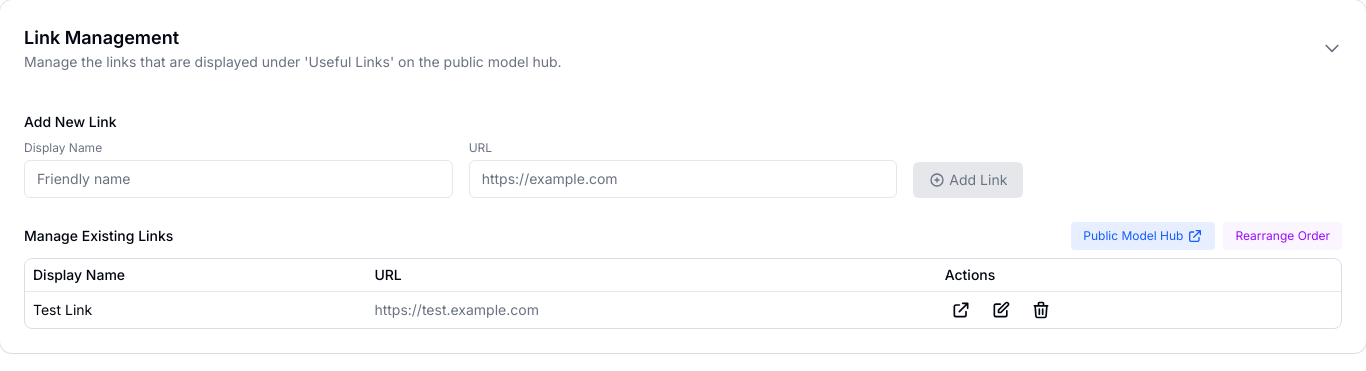
Test: UsefulLinksManagement › should edit a link when edit button is clicked
The width and height of the screenshot is (1366, 371).
Expected: the text "Test Link" is shown, top-left (25, 291), bottom-right (366, 328)
Click edit button
Click the element with test id "edit-link-0-Test Link". click: coordinates (1001, 310)
box: top-left (991, 300), bottom-right (1011, 320)
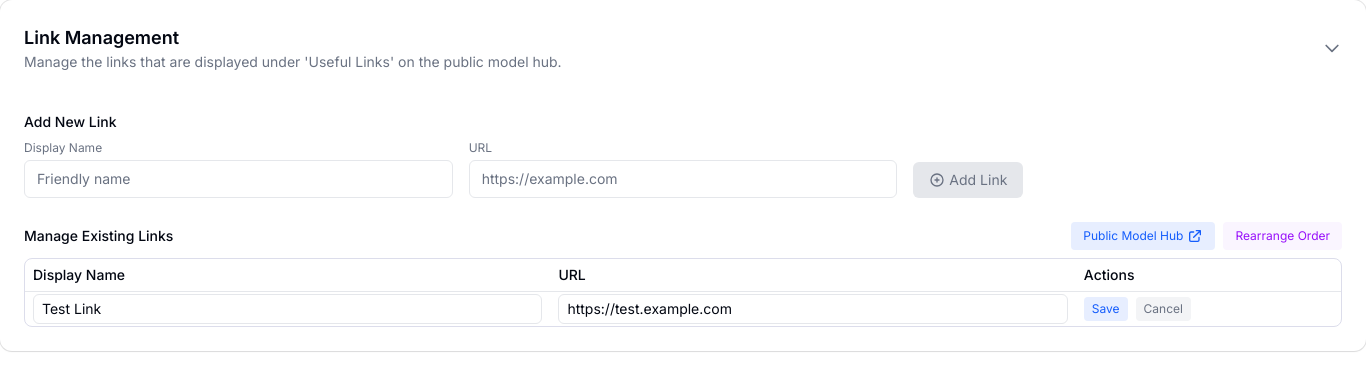
Expected: the 1st field showing "Test Link" is shown, top-left (33, 294), bottom-right (542, 324)
Expected: the 2nd field showing "https://test.example.com" is shown, top-left (558, 294), bottom-right (1068, 324)
